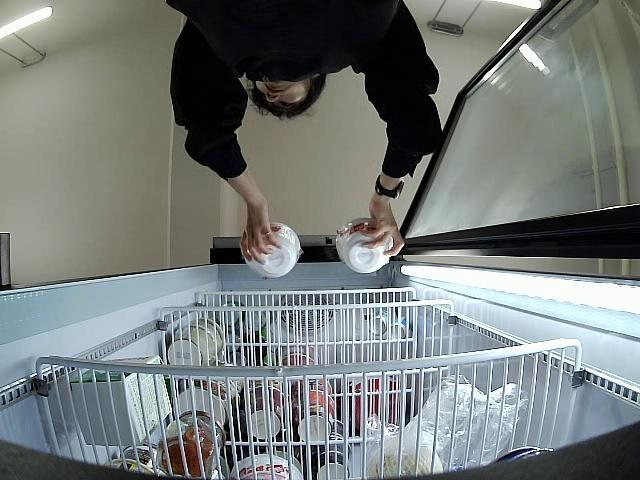09_yukGaeJang: (240, 224, 305, 280), (334, 218, 392, 276)
